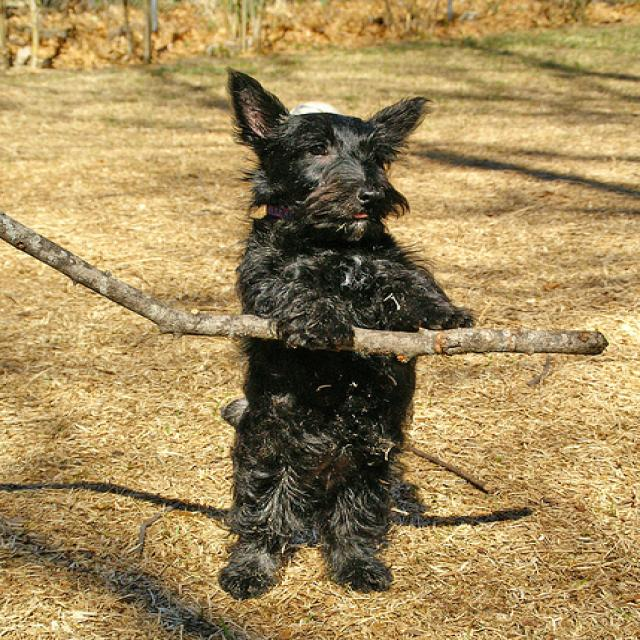dog-scottish_terrier: (213, 58, 461, 598)
